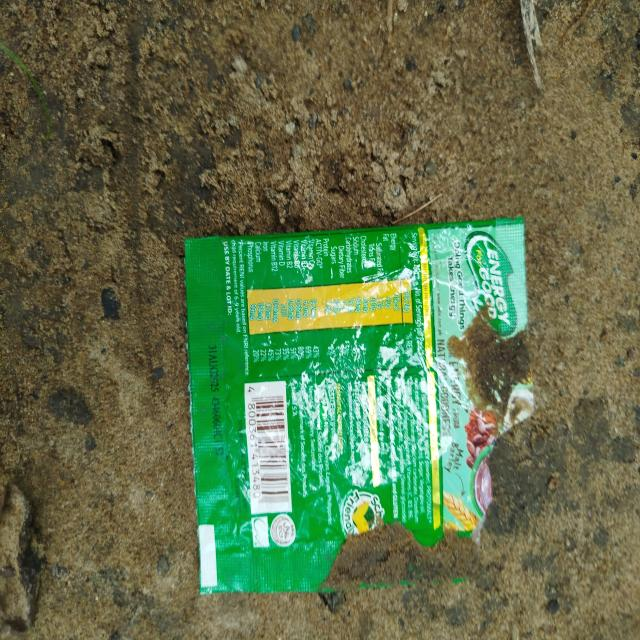residual: (180, 209, 547, 617)
